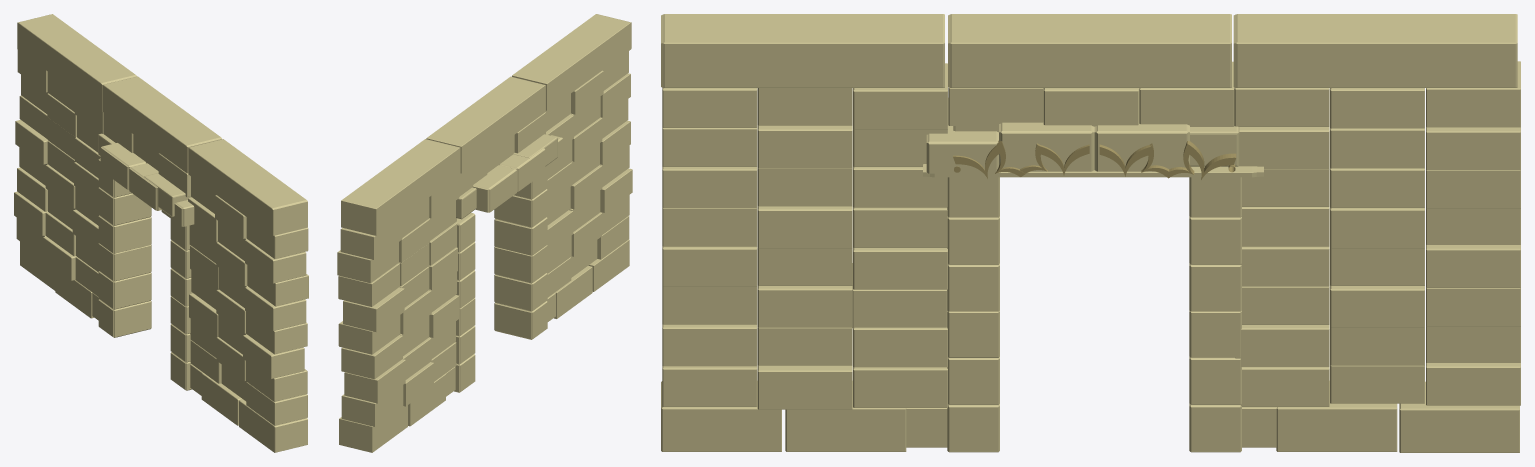
File: Wall-2.FBX
The picture shows the model from 3 angles, left to right: view 1: azimuth 30°, elevation 25°; view 2: azimuth 150°, elevation 25°; view 3: azimuth 270°, elevation 25°; orthographic projection. The views are drawn at different scales.
Visible parts, largest first — view 1: Wall-003; view 2: Wall-003; view 3: Wall-003.
Boxes of the visible parts, bbox=[...] form: Wall-003: bbox=[14, 14, 308, 452]; Wall-003: bbox=[337, 14, 632, 452]; Wall-003: bbox=[661, 14, 1520, 452].
Size of the model in its own units: 173 by 635 by 1207.
